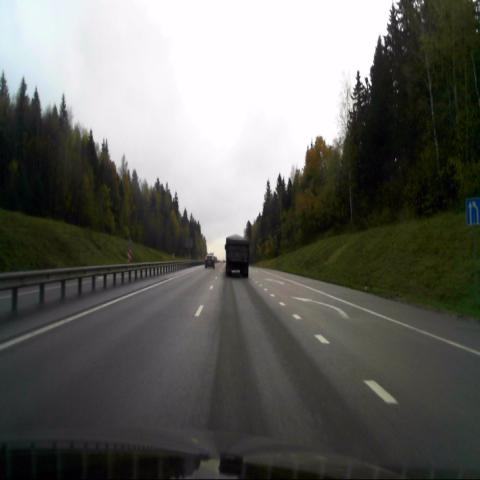5_15_5: (466, 199, 480, 225)
